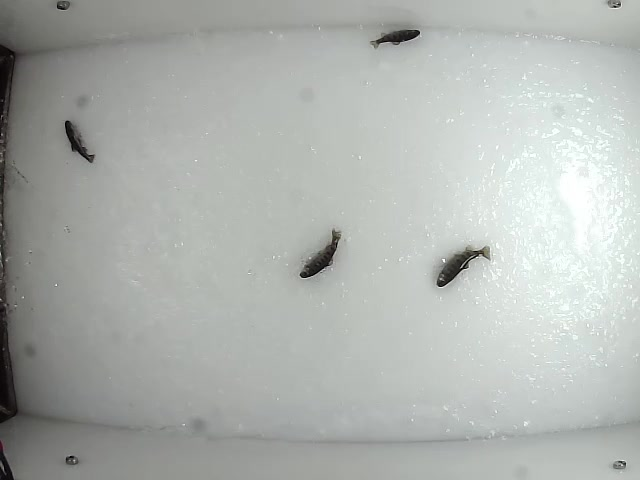fish: (436, 241, 492, 287), (299, 225, 342, 279), (59, 118, 97, 164), (367, 29, 421, 52)
